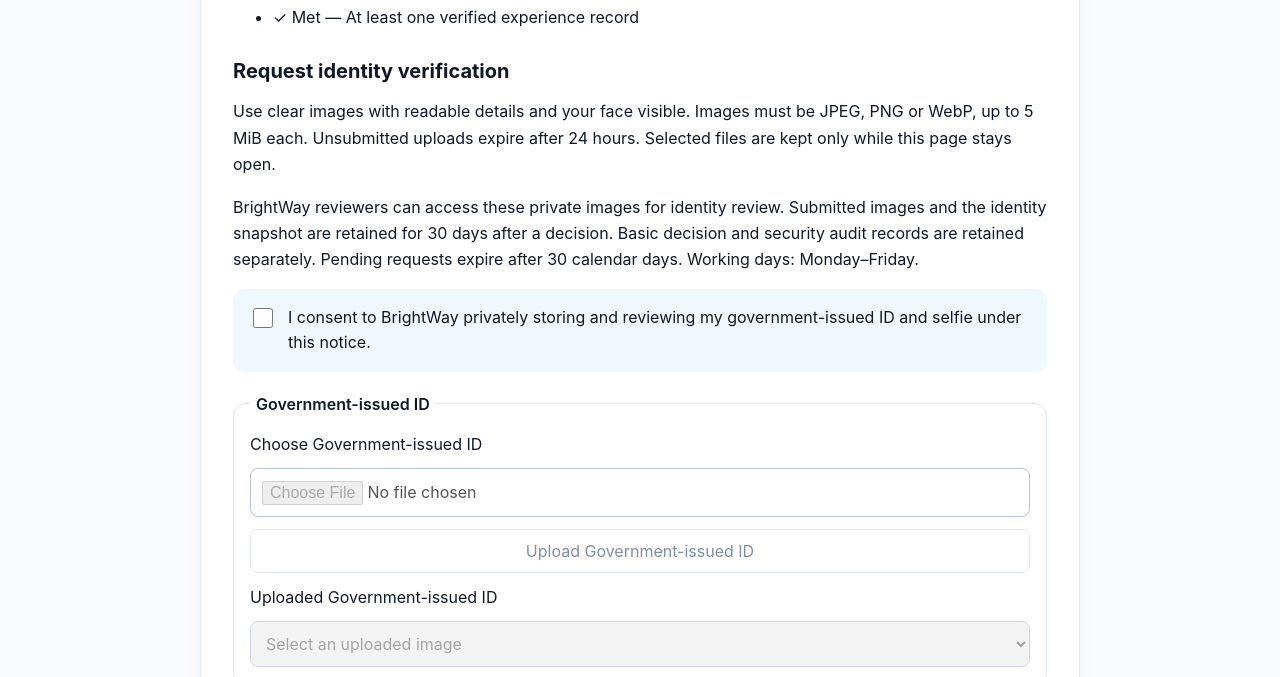
Test: does not resubmit a confirmed request when the follow-up status refresh fails
(page scrolled)
Click the checkbox.
click(263, 318)  # box [253,308,273,328]
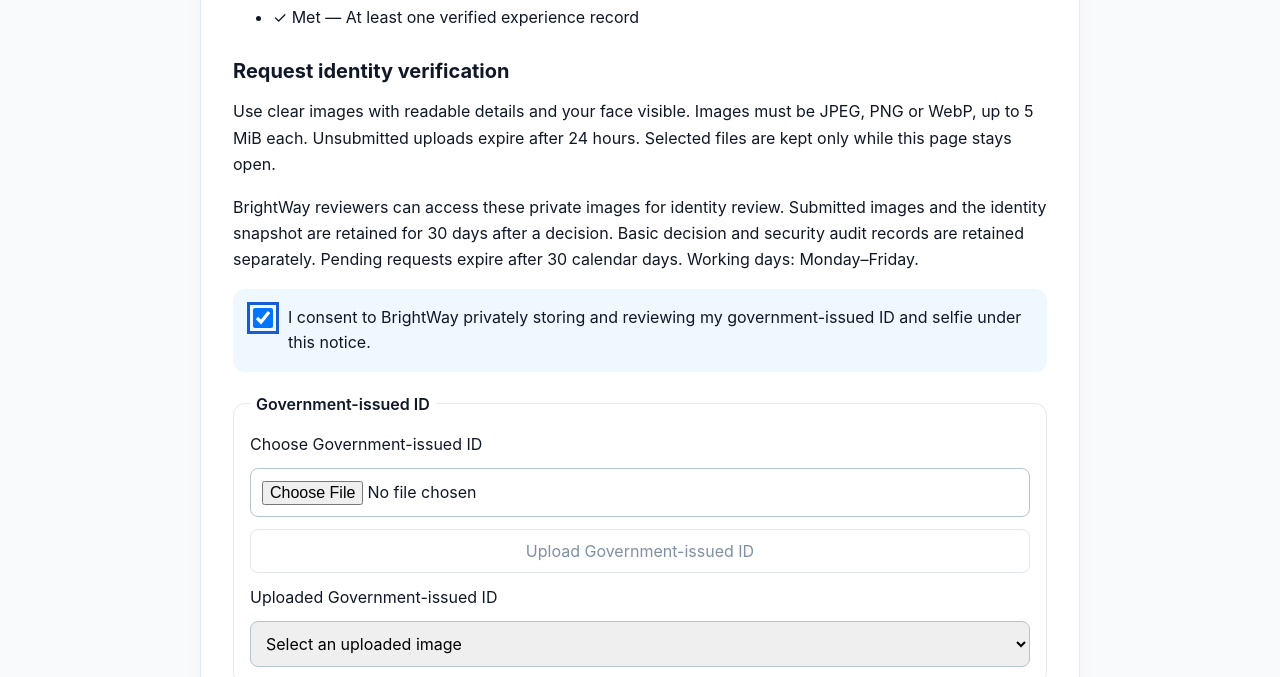
Select "Upload 1 · expires 27 Oct 2026, 00:00 UTC" in the dropdown labelled "Uploaded Government-issued ID" at (640, 644), box [250,621,1030,667]
(page scrolled)
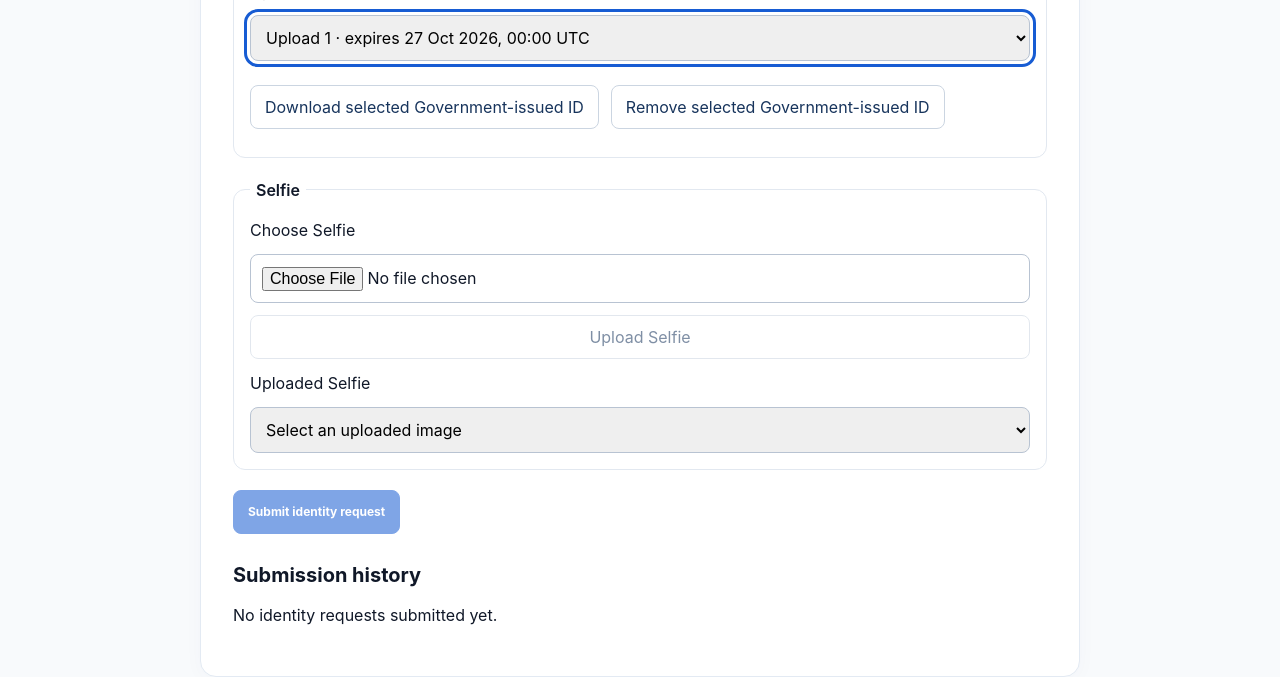
Select "Upload 1 · expires 27 Oct 2026, 00:00 UTC" in the dropdown labelled "Uploaded Selfie" at (640, 430), box [250,407,1030,453]
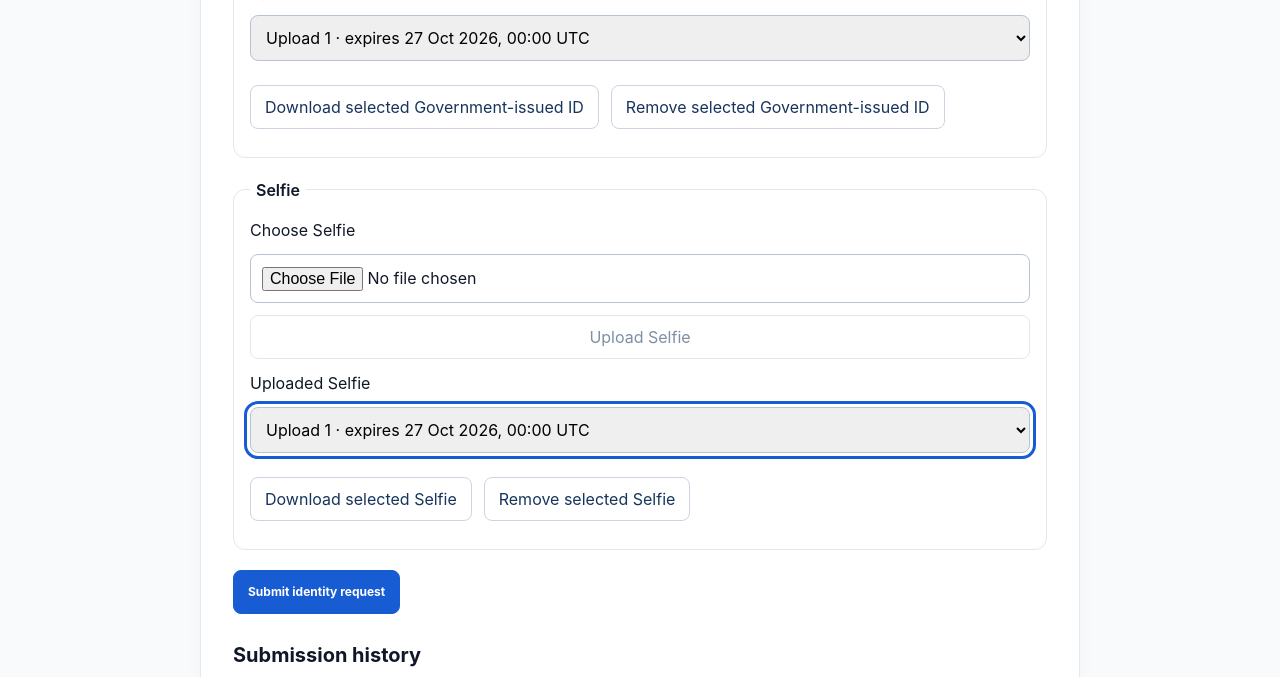
Click the button "Submit identity request".
click(317, 592)  # box [233,570,400,614]
(page scrolled)
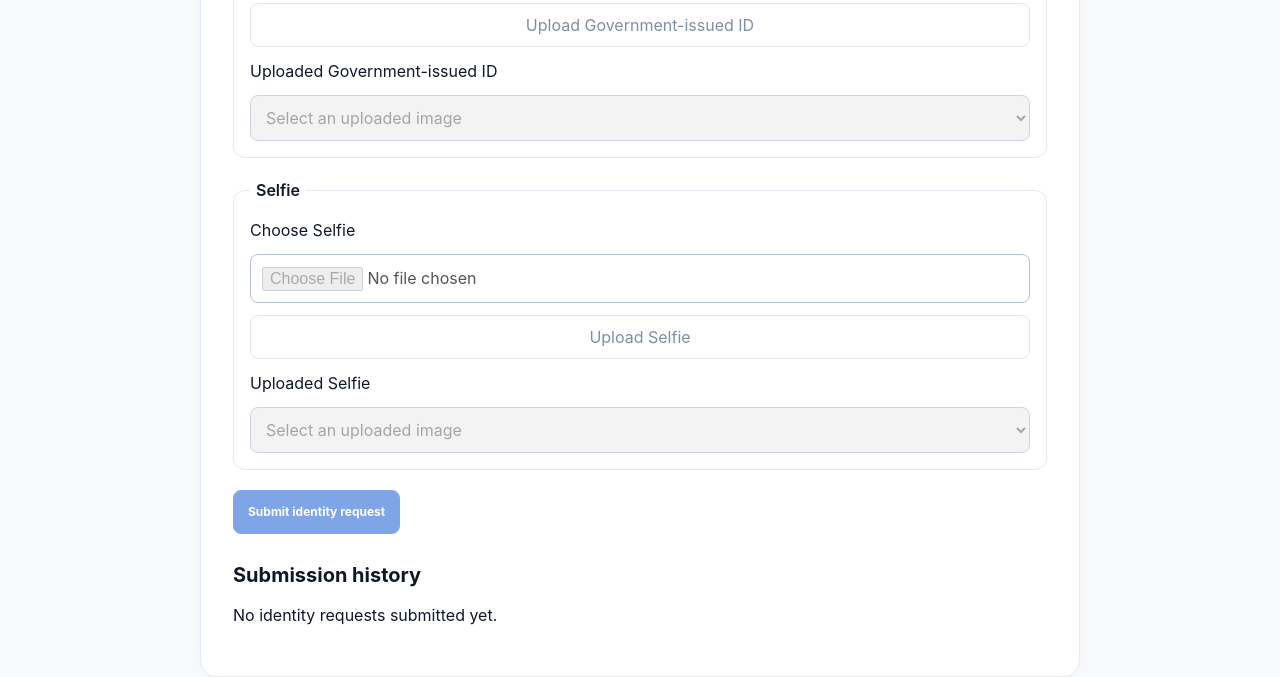
Now the button "Submit identity request" is disabled, box [233,490,400,534]
